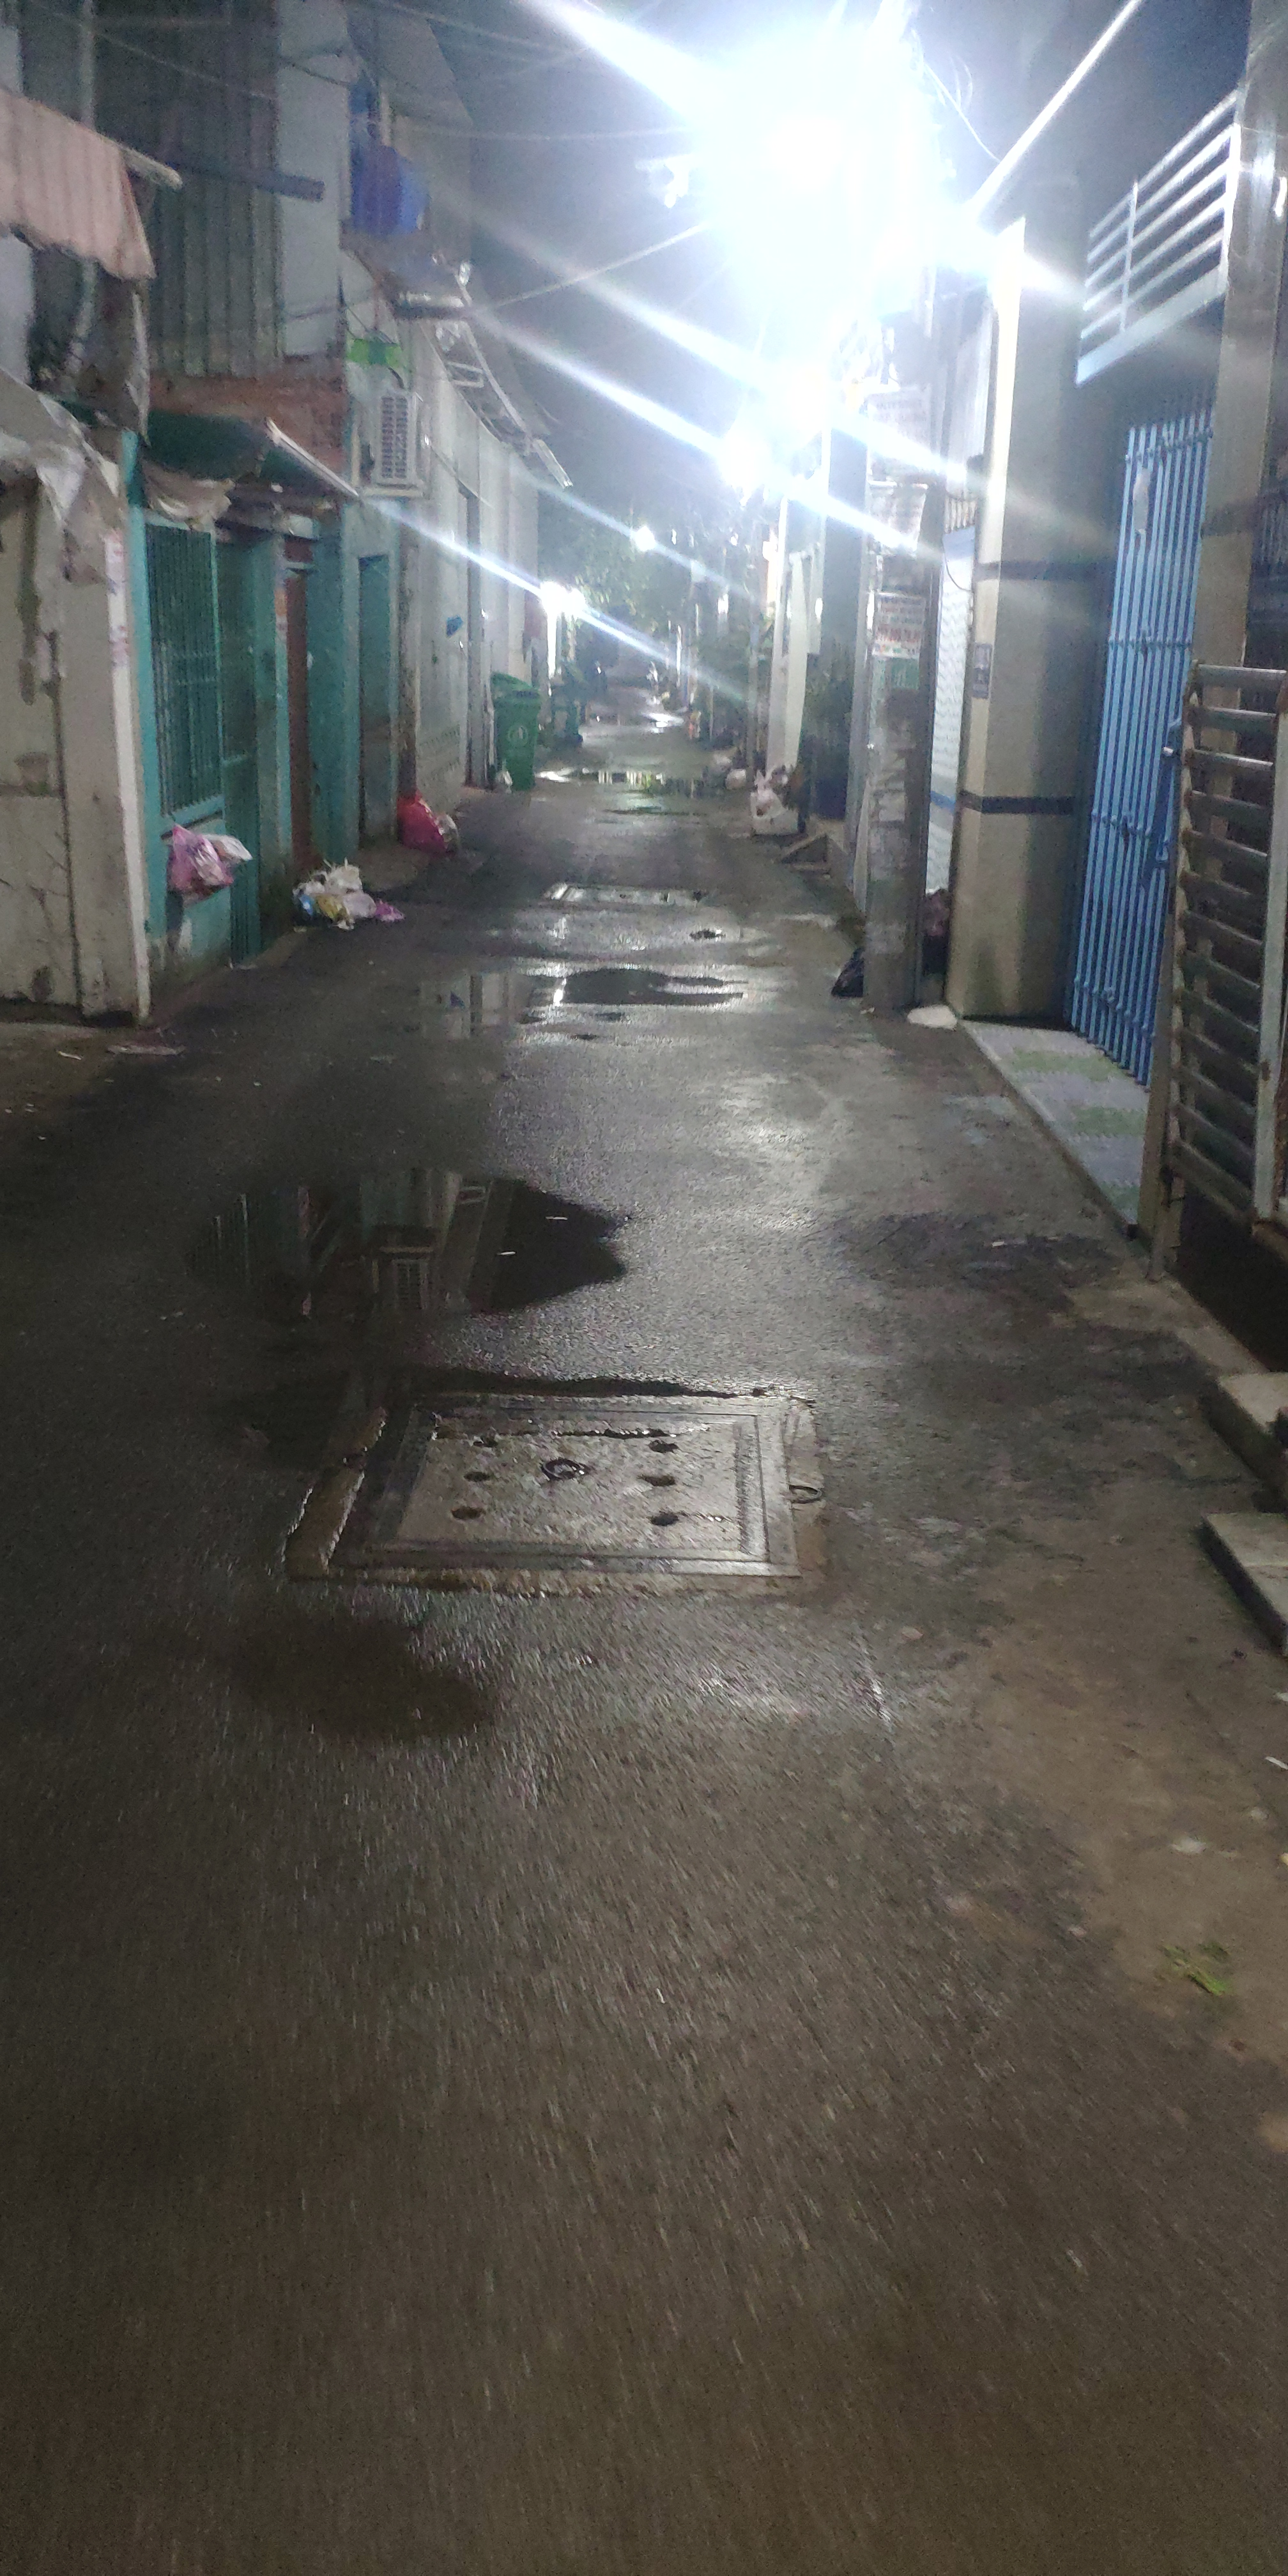hole: (177, 1140, 657, 1316), (187, 1598, 501, 1748), (366, 963, 757, 1050), (191, 1360, 358, 1456), (540, 766, 705, 797), (595, 803, 706, 821), (586, 710, 669, 728), (687, 923, 733, 946), (690, 887, 711, 904)
